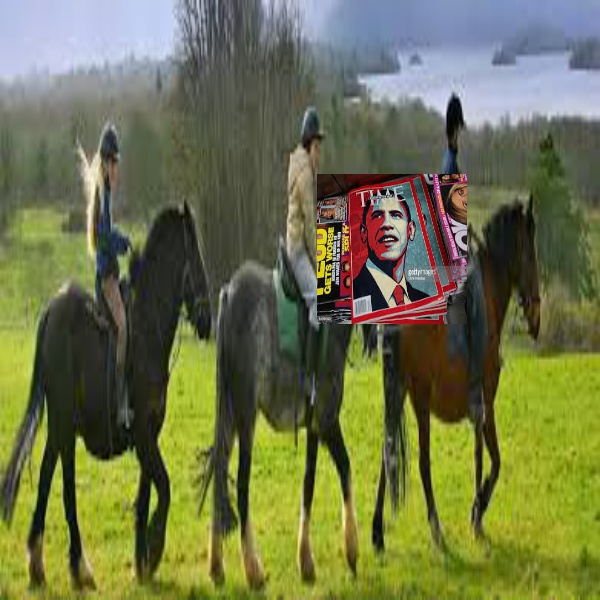time_cover: (343, 181, 439, 305)
